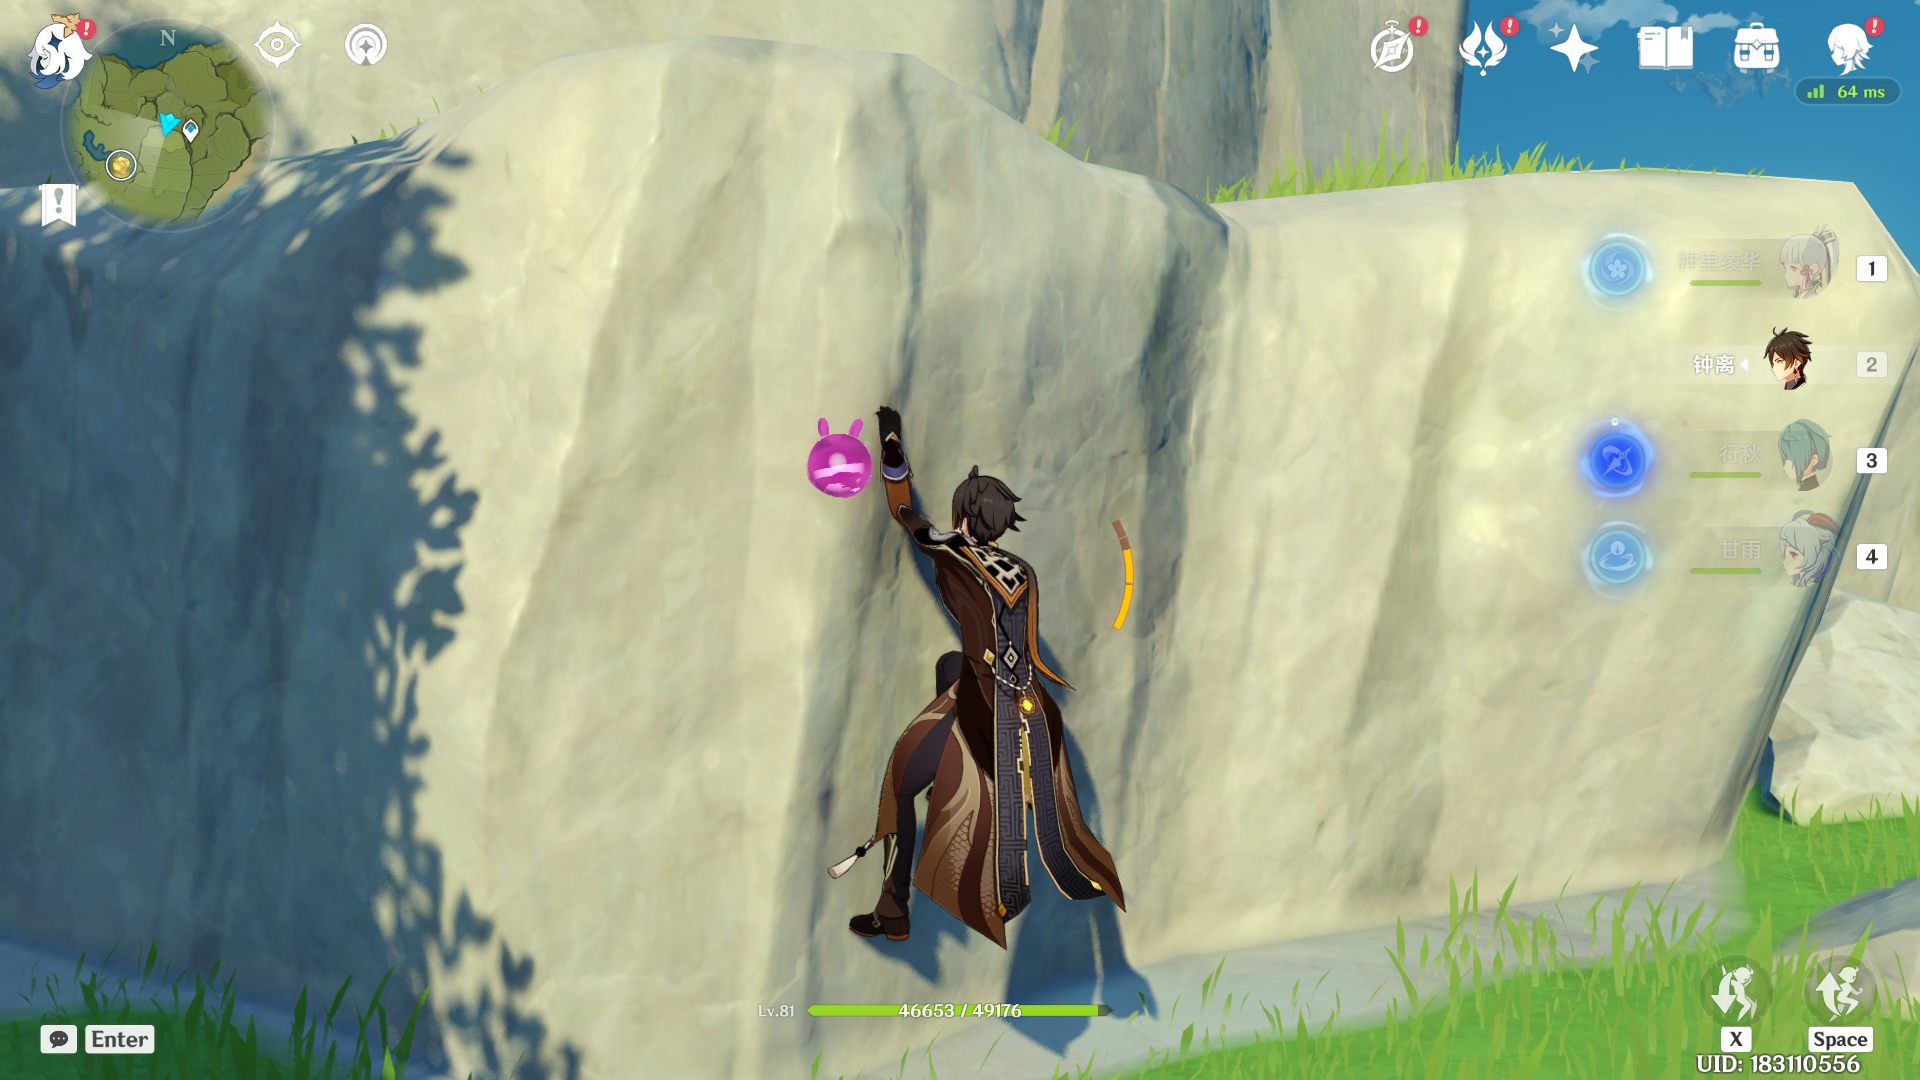character: (808, 375, 1189, 989)
